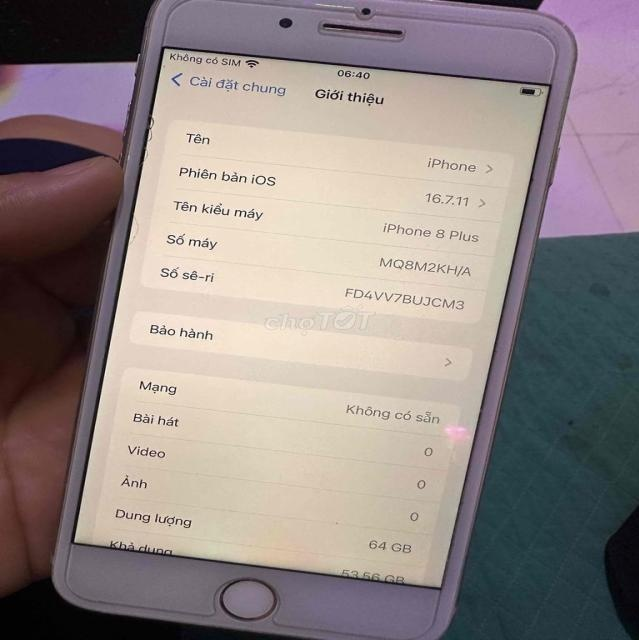scratch: (138, 113, 156, 169), (121, 212, 140, 249), (122, 149, 134, 164)
